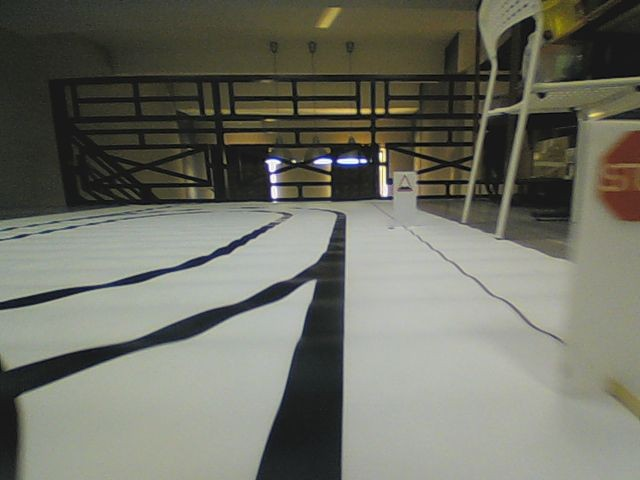Nerov: (395, 174, 413, 193)
